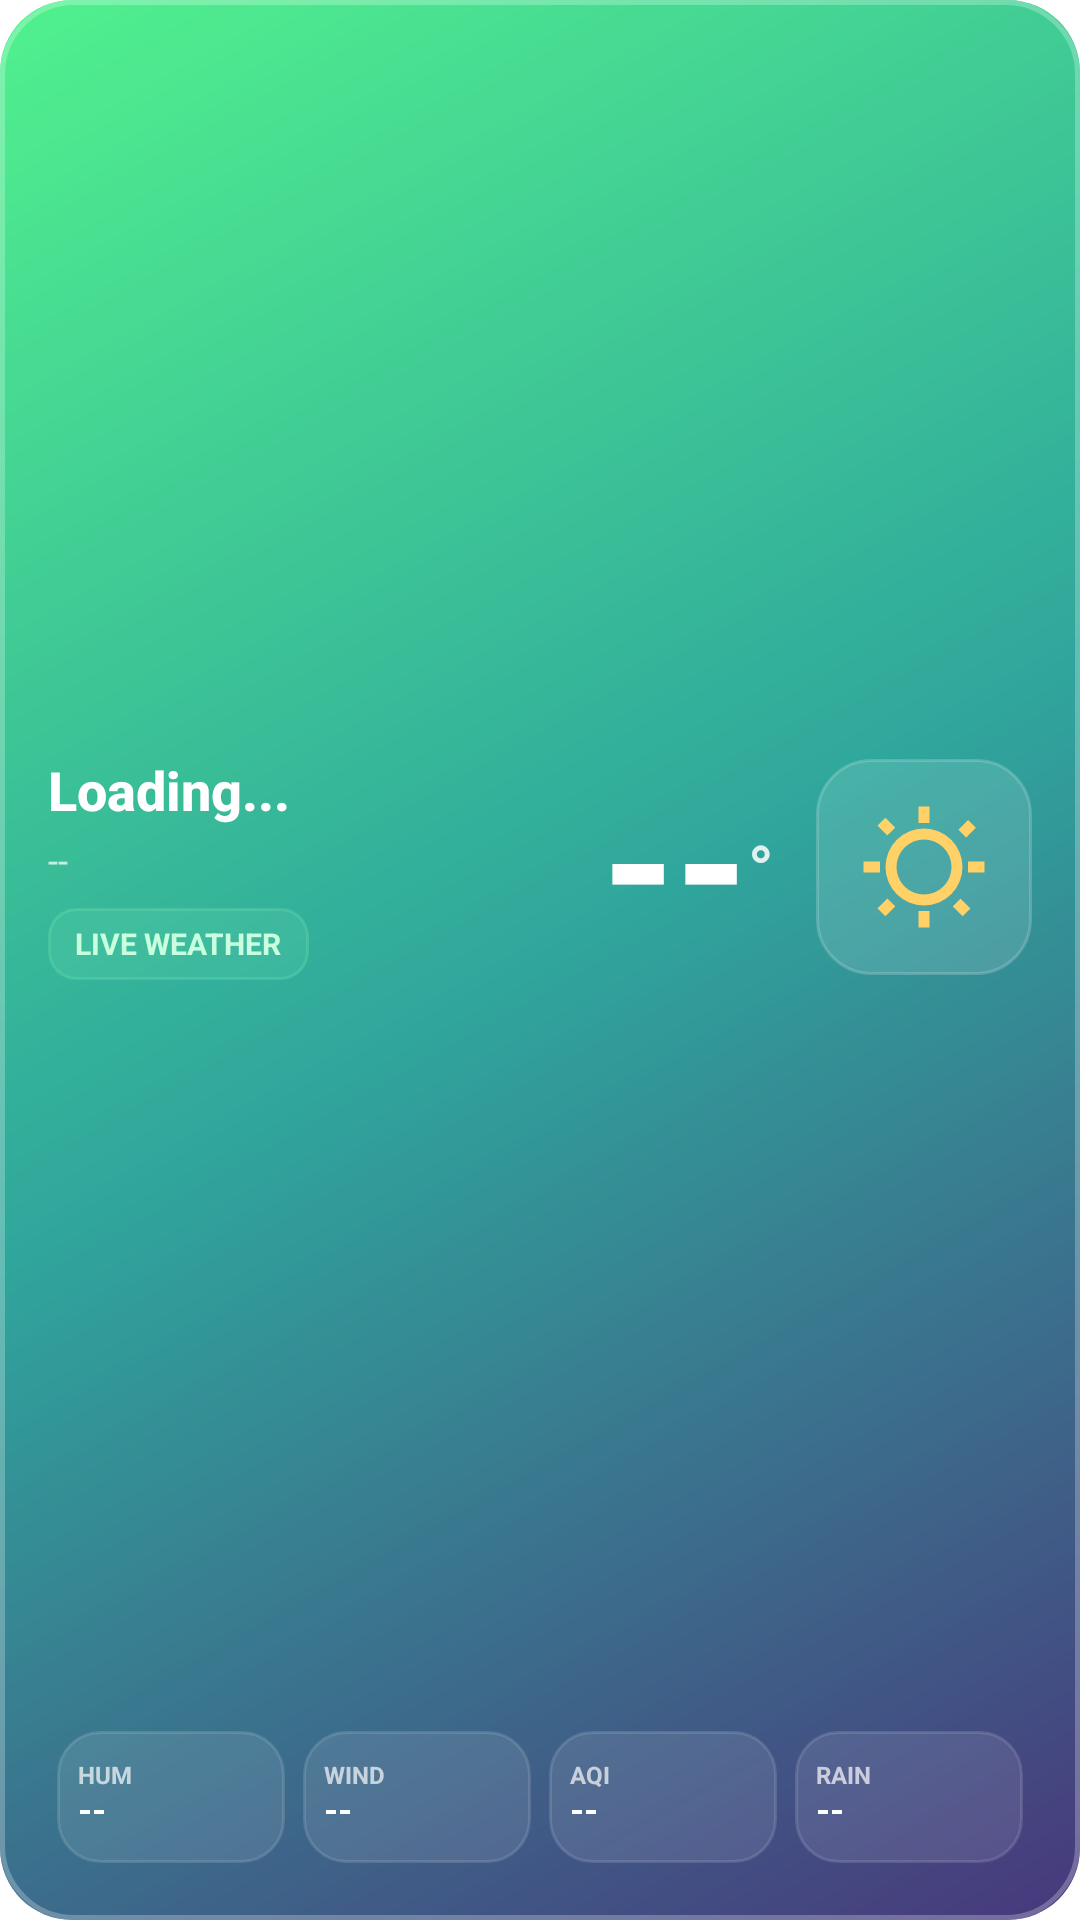

Point at icon controls on the screen. Image size 1080 × 1920, points as (x,y).
widget sun: (924,867)
